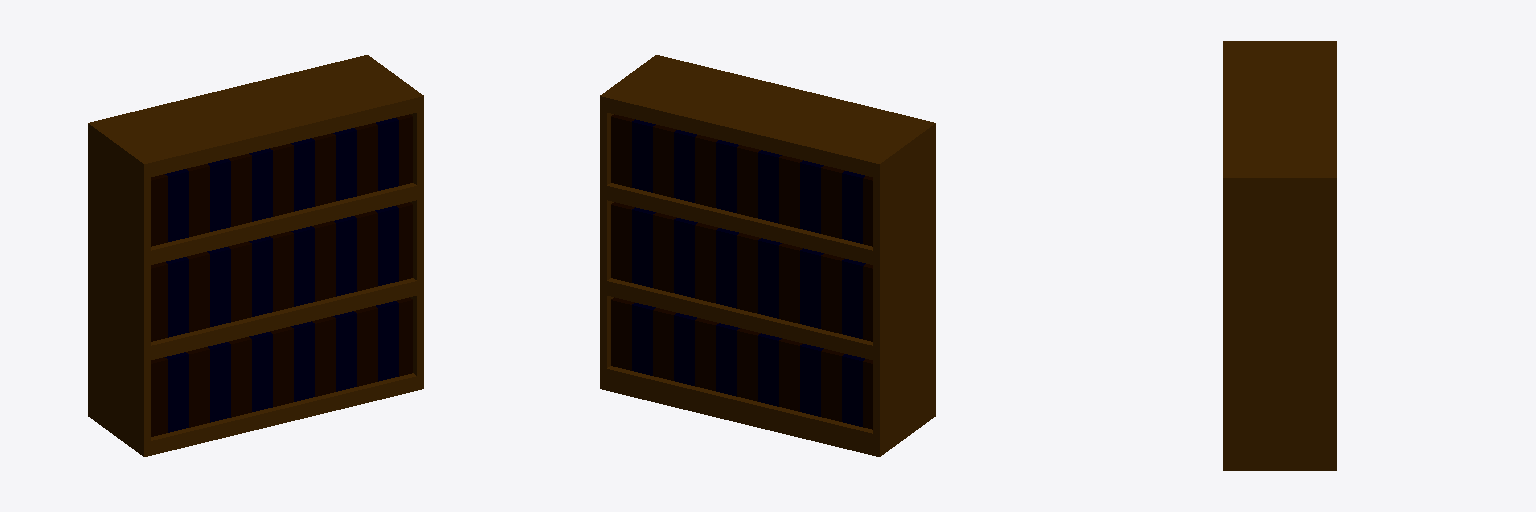
3 views of the same model, side by side, from view 1: azimuth 30°, elevation 25°; view 2: azimuth 150°, elevation 25°; view 3: azimuth 270°, elevation 25° (orthographic).
Visible parts, largest first — view 1: object 1; view 2: object 1; view 3: object 1.
Boxes of the visible parts, x1=… form: object 1: x1=88, y1=55, x2=423, y2=456; object 1: x1=600, y1=55, x2=935, y2=456; object 1: x1=1223, y1=41, x2=1336, y2=470.
Bounding box in the file's own units: 4 × 4 × 1.4.
Materials: 1 (1 with a texture image).